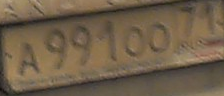character: (41, 25, 68, 71), (67, 24, 94, 69), (93, 19, 118, 65), (15, 41, 43, 77), (146, 18, 173, 54), (121, 23, 147, 60), (178, 1, 200, 41), (201, 1, 221, 40)
